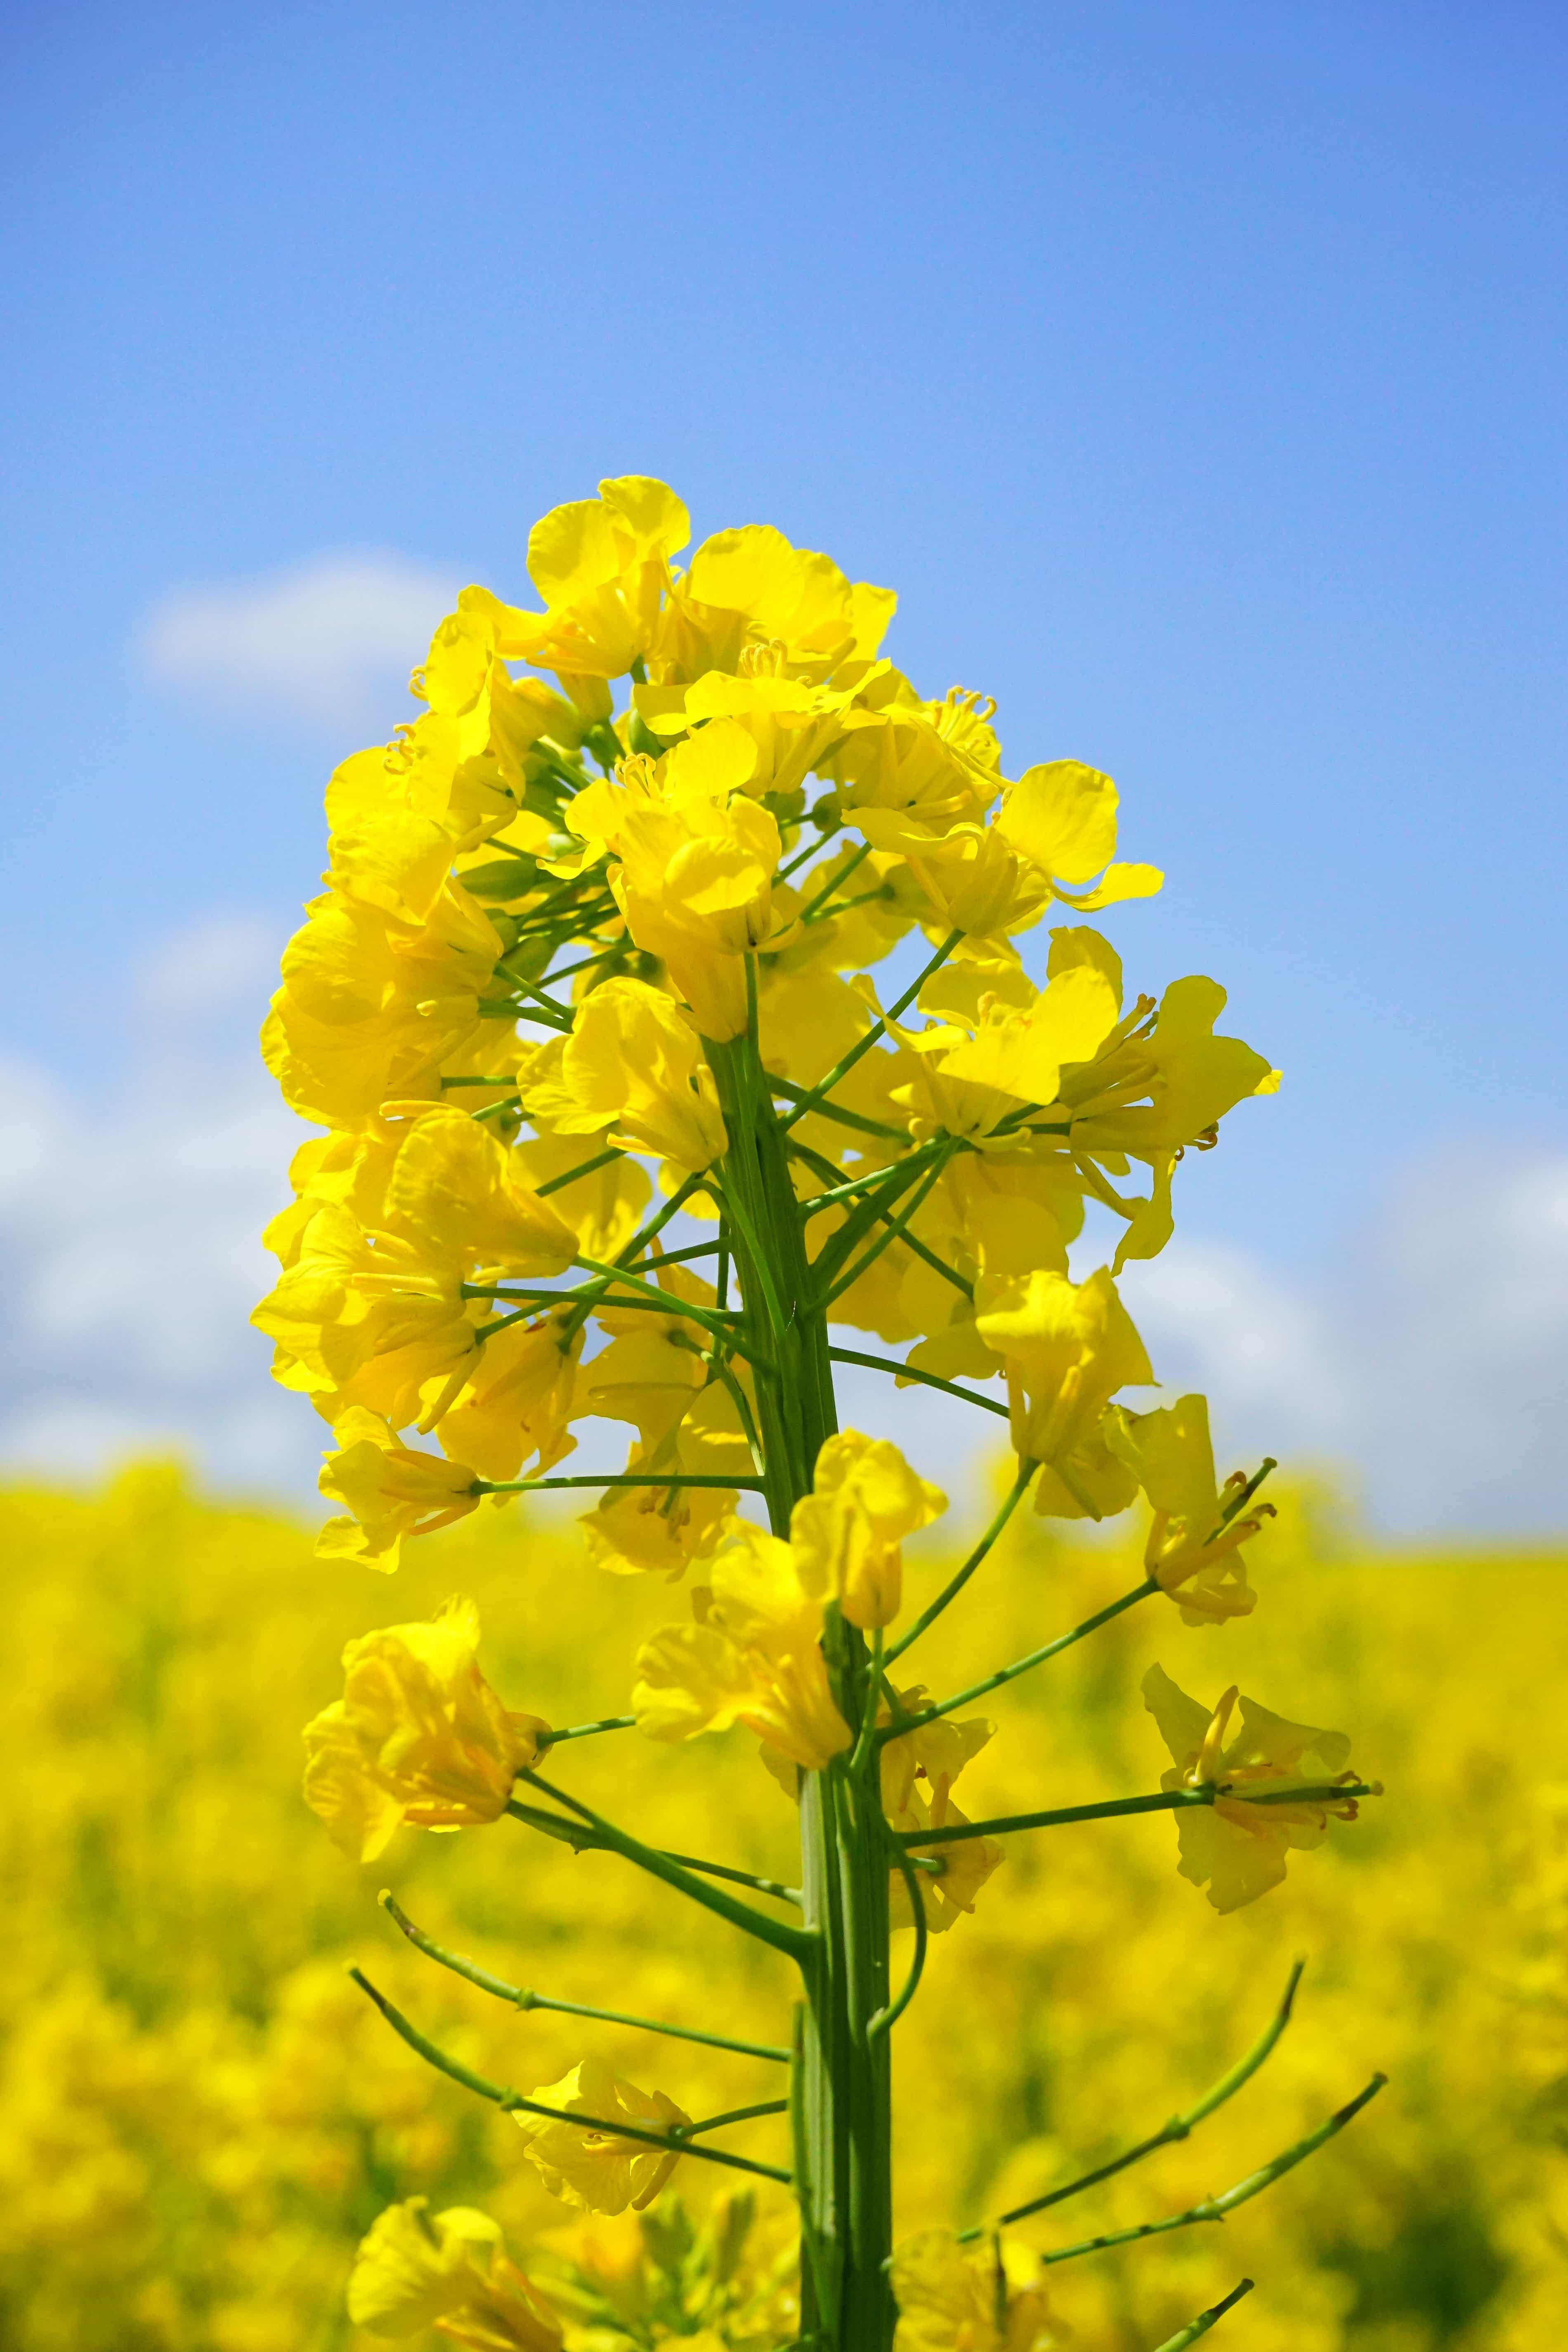mustard: (37, 441, 1447, 2285)
